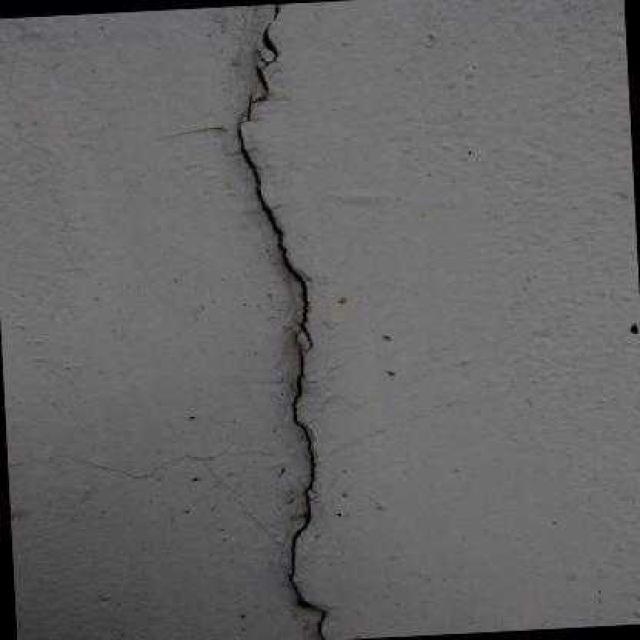D00: (7, 449, 291, 535), (235, 91, 312, 349), (288, 328, 327, 640), (260, 2, 279, 67), (250, 63, 268, 100)
